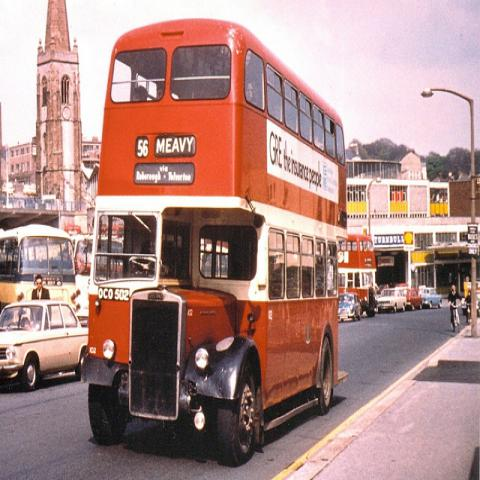bus: (80, 18, 348, 468), (0, 223, 80, 319), (337, 230, 381, 317), (70, 235, 94, 276)
car: (1, 300, 88, 393), (375, 290, 409, 312), (338, 294, 362, 324), (401, 287, 423, 311), (420, 288, 442, 309)
